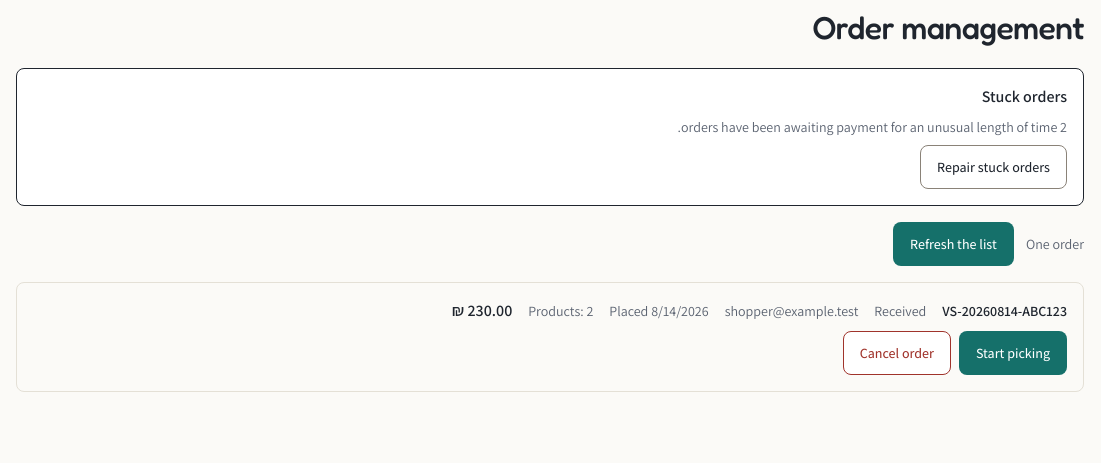
Test case: the stuck-order trigger › 🔴 A FULLY SUCCESSFUL SWEEP STILL SHOWS ITS REPORT — the panel must not vanish
The image size is (1101, 463).
Click the button "Repair stuck orders": (994, 167) [920,145,1067,189]
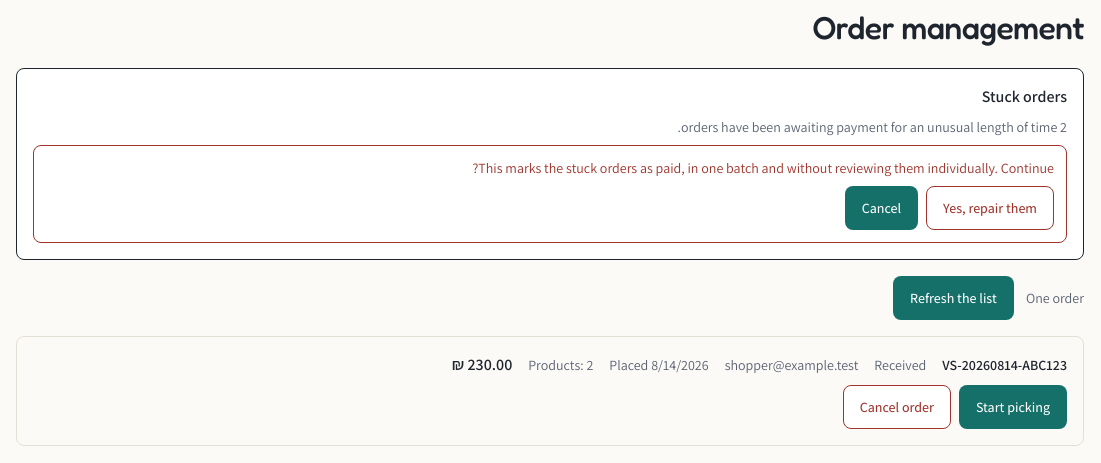
Click the button "Yes, repair them": (990, 208) [926,186,1054,230]
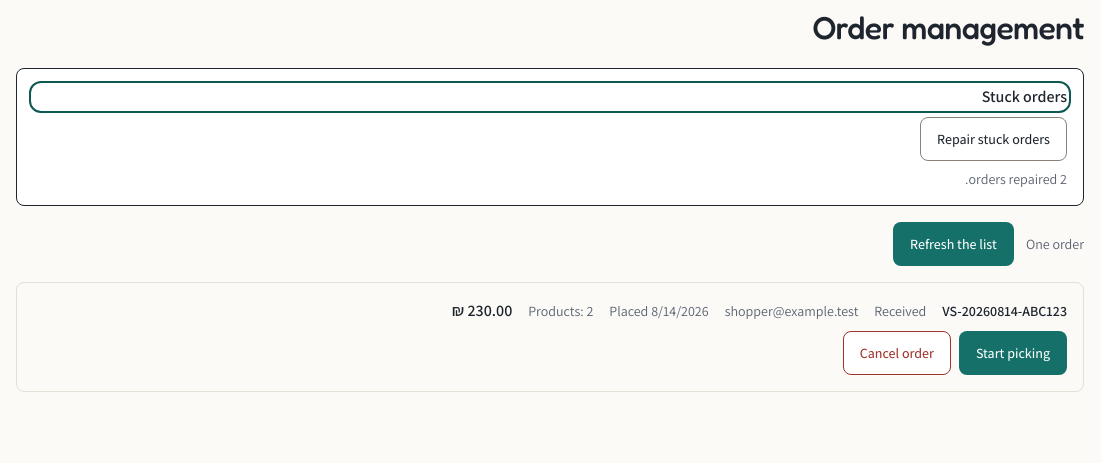
Now the text "2 orders repaired" is shown 2 times
Now the text "have been awaiting payment" is gone
